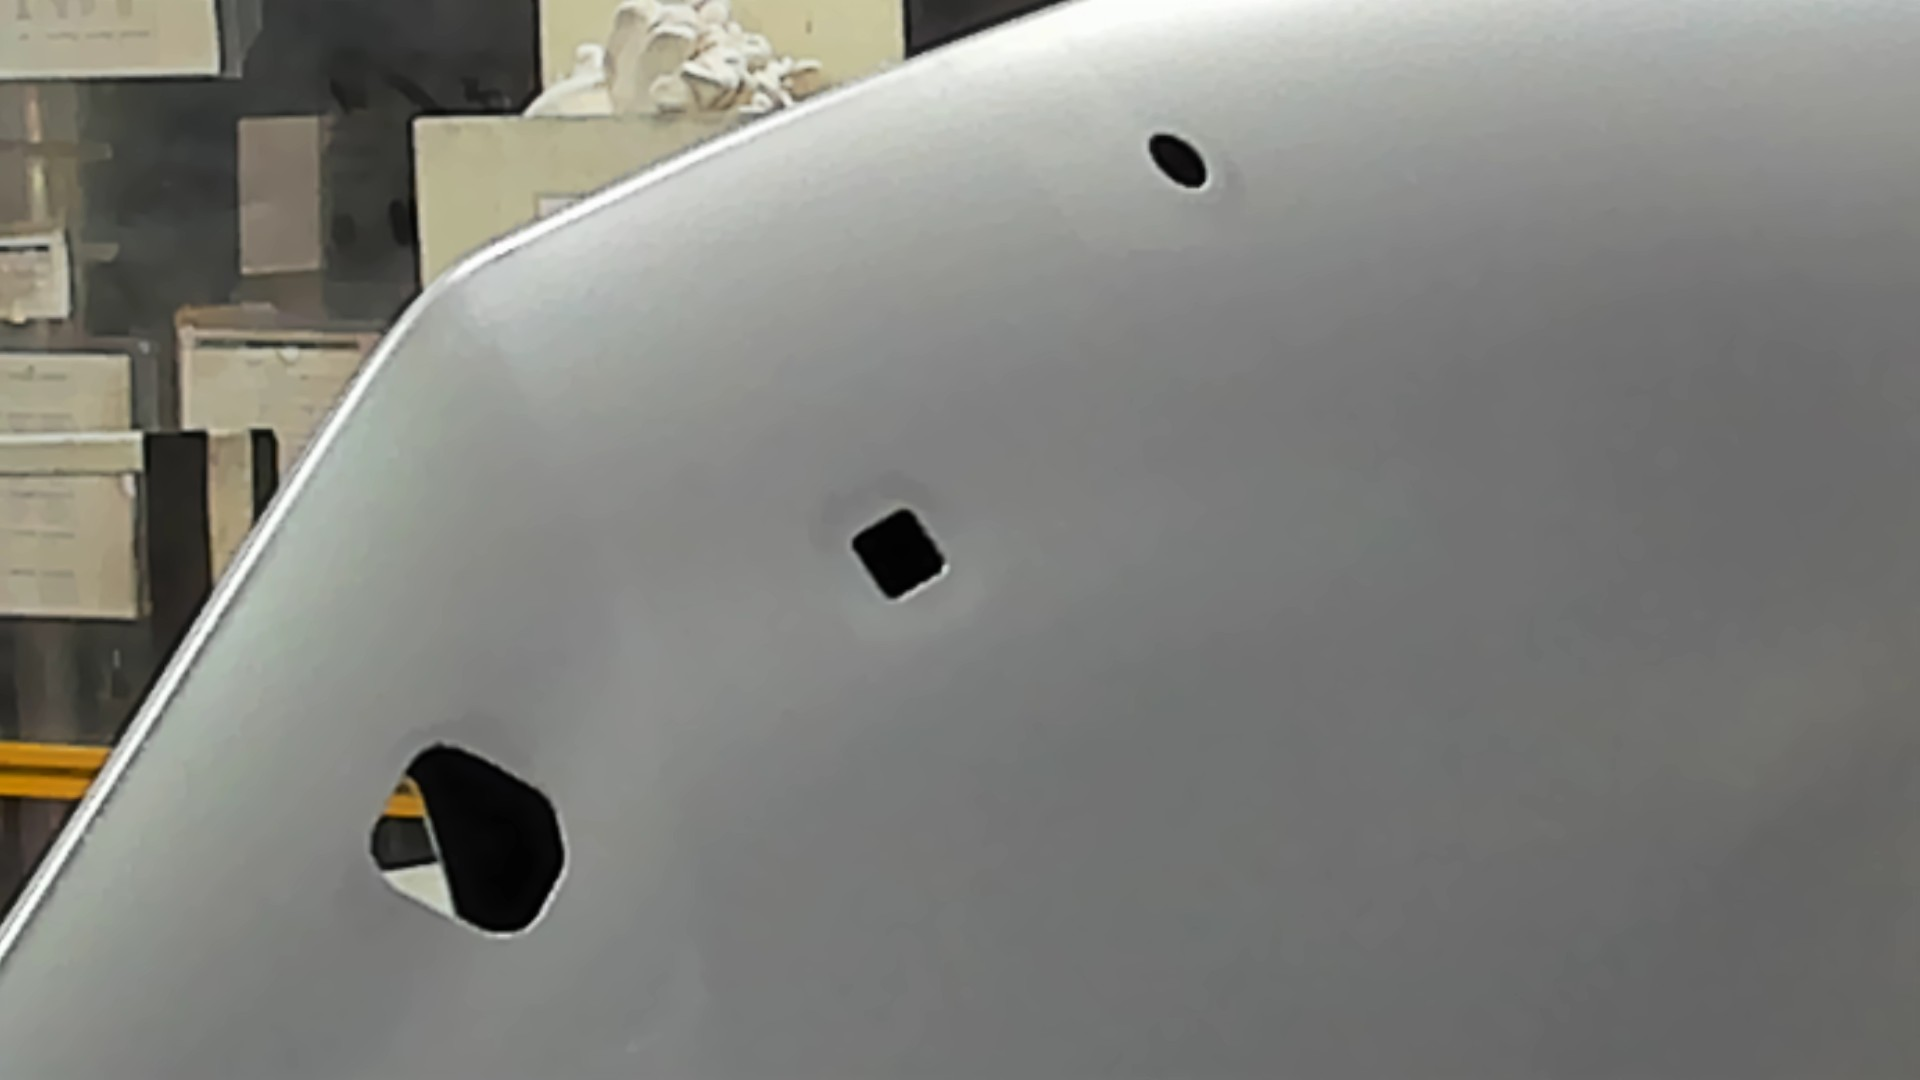capo: (961, 203, 1920, 1080)
chico: (1142, 127, 1218, 200)
grande: (363, 738, 578, 953)
mediano: (845, 502, 956, 608)
